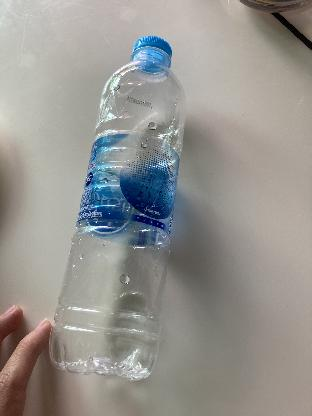Plastic Bottle: (46, 35, 186, 380)
